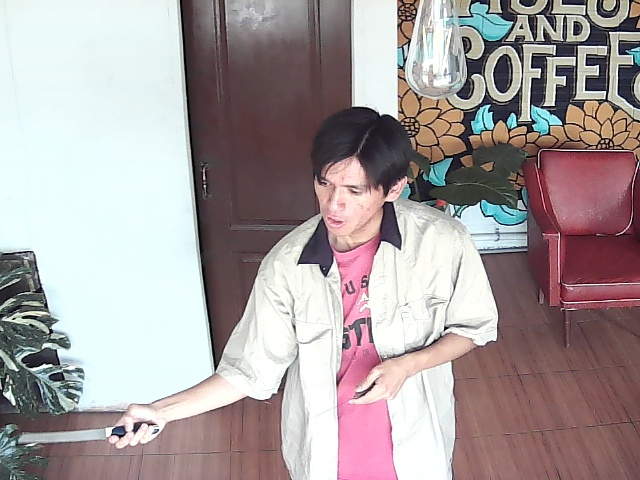cuchillo: (13, 408, 171, 460)
